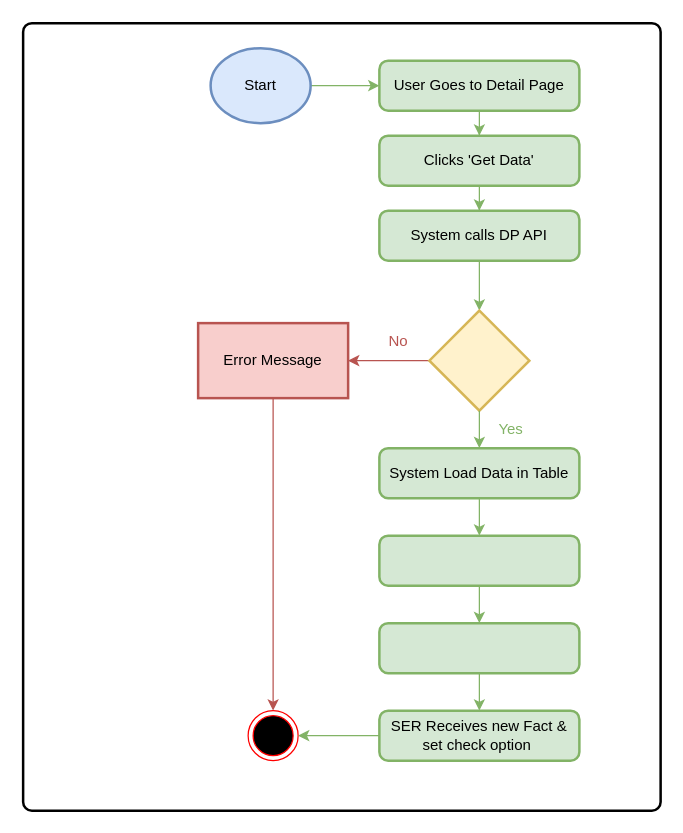
This 683x833 diagram has some shape labels left out. The shapes that lost their labels are listed below. From the top down, each one's centre as x and y in pixels, then its label:
point 479,360: Success
point 479,560: Call RE with Table Data
point 479,647: RE Evaluate rules & Return new Fact
